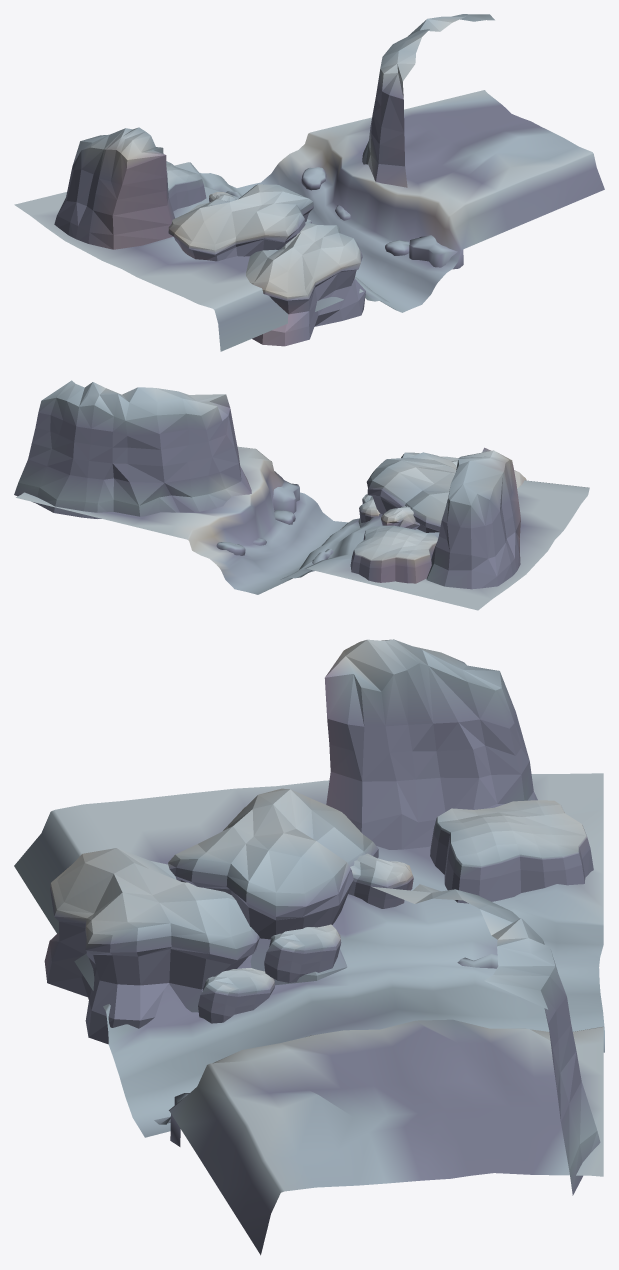
File: Arctic_Luge_Curve_left_15_A.glb
The picture shows the model from 3 angles, top to bottom: view 1: azimuth 30°, elevation 25°; view 2: azimuth 150°, elevation 25°; view 3: azimuth 270°, elevation 25°; orthographic projection. The views are drawn at different scales.
Visible parts, largest first — view 1: Arctic_Luge_Curve_left_15_A, Arctic_Luge_LargeIceRock_prop, Arctic_Luge_LargeRock_prop (1), Arctic_Luge_LargeRock_prop, Arctic_Luge_IceWall_prop, Arctic_Luge_MediumIceRock_prop; view 2: Arctic_Luge_IceWall_prop, Arctic_Luge_Curve_left_15_A, Arctic_Luge_LargeIceRock_prop, Arctic_Luge_LargeRock_prop, Arctic_Luge_MediumIceRock_prop, Arctic_Luge_SmallRock_prop, Arctic_Luge_SmallRock_prop (1); view 3: Arctic_Luge_Curve_left_15_A, Arctic_Luge_LargeIceRock_prop, Arctic_Luge_LargeRock_prop (1), Arctic_Luge_LargeRock_prop, Arctic_Luge_MediumIceRock_prop, Arctic_Luge_IceWall_prop, Arctic_Luge_SmallRock_prop (1), Arctic_Luge_SmallRock_prop (2), Arctic_Luge_SmallRock_prop.
Part boxes in pixels (bbox=[...]): Arctic_Luge_Curve_left_15_A: bbox=[14, 90, 604, 351]; Arctic_Luge_LargeIceRock_prop: bbox=[54, 127, 175, 249]; Arctic_Luge_LargeRock_prop (1): bbox=[246, 222, 365, 346]; Arctic_Luge_LargeRock_prop: bbox=[168, 184, 313, 261]; Arctic_Luge_IceWall_prop: bbox=[362, 14, 494, 187]; Arctic_Luge_MediumIceRock_prop: bbox=[166, 161, 206, 211]; Arctic_Luge_IceWall_prop: bbox=[14, 380, 251, 518]; Arctic_Luge_Curve_left_15_A: bbox=[16, 446, 589, 610]; Arctic_Luge_LargeIceRock_prop: bbox=[426, 447, 520, 589]; Arctic_Luge_LargeRock_prop: bbox=[358, 452, 456, 532]; Arctic_Luge_MediumIceRock_prop: bbox=[350, 525, 437, 583]; Arctic_Luge_SmallRock_prop: bbox=[381, 506, 419, 529]; Arctic_Luge_SmallRock_prop (1): bbox=[359, 494, 380, 522]; Arctic_Luge_Curve_left_15_A: bbox=[14, 773, 604, 1255]; Arctic_Luge_LargeIceRock_prop: bbox=[324, 639, 537, 849]; Arctic_Luge_LargeRock_prop (1): bbox=[44, 848, 259, 1044]; Arctic_Luge_LargeRock_prop: bbox=[168, 788, 378, 985]; Arctic_Luge_MediumIceRock_prop: bbox=[430, 800, 593, 903]; Arctic_Luge_IceWall_prop: bbox=[371, 884, 600, 1195]; Arctic_Luge_SmallRock_prop (1): bbox=[264, 924, 341, 982]; Arctic_Luge_SmallRock_prop (2): bbox=[198, 968, 274, 1023]; Arctic_Luge_SmallRock_prop: bbox=[348, 853, 413, 908].
Bounding box in the file's own units: 27.23 × 9.53 × 16.08.
